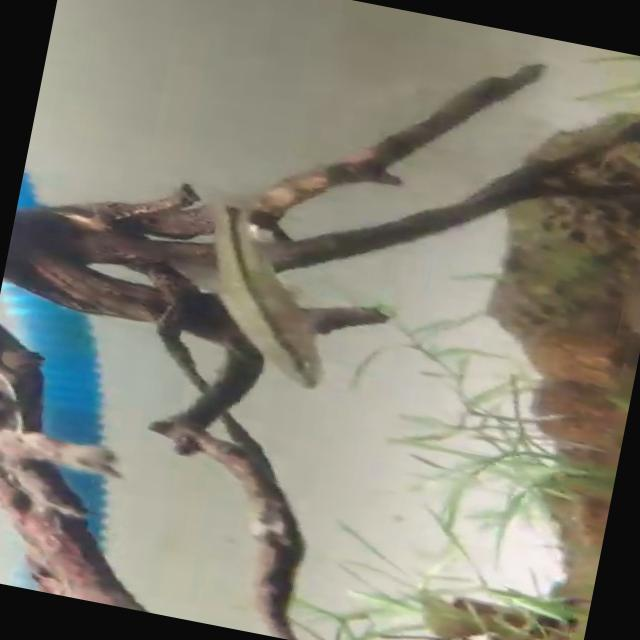Cakil Baligi: (146, 188, 348, 390)
